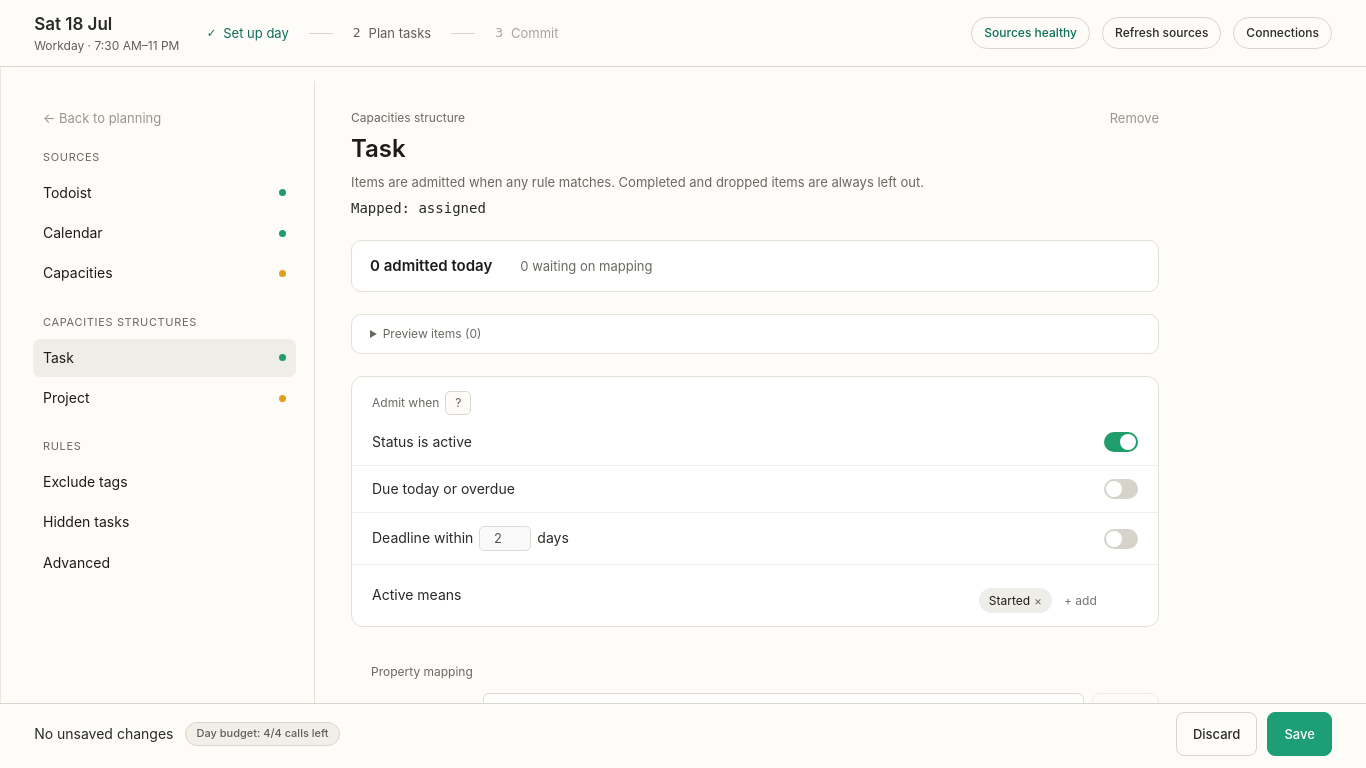
Connections screen (U13) › refuses an invalid rule, states why, and keeps Save disabled (R33)
Click the switch named "Deadline within": (1121, 538) [1104,528,1138,548]
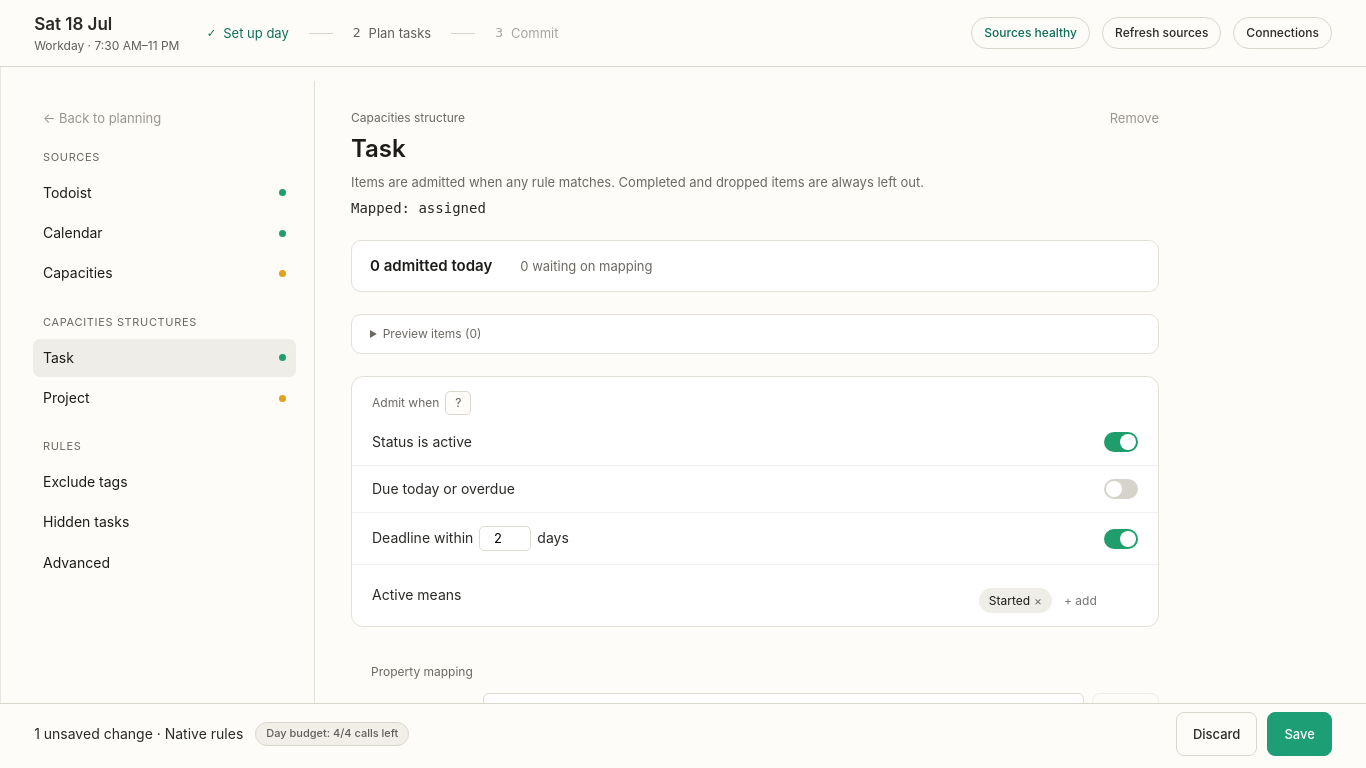
Clear the number field named "Deadline horizon": (505, 538) [479,526,531,551]
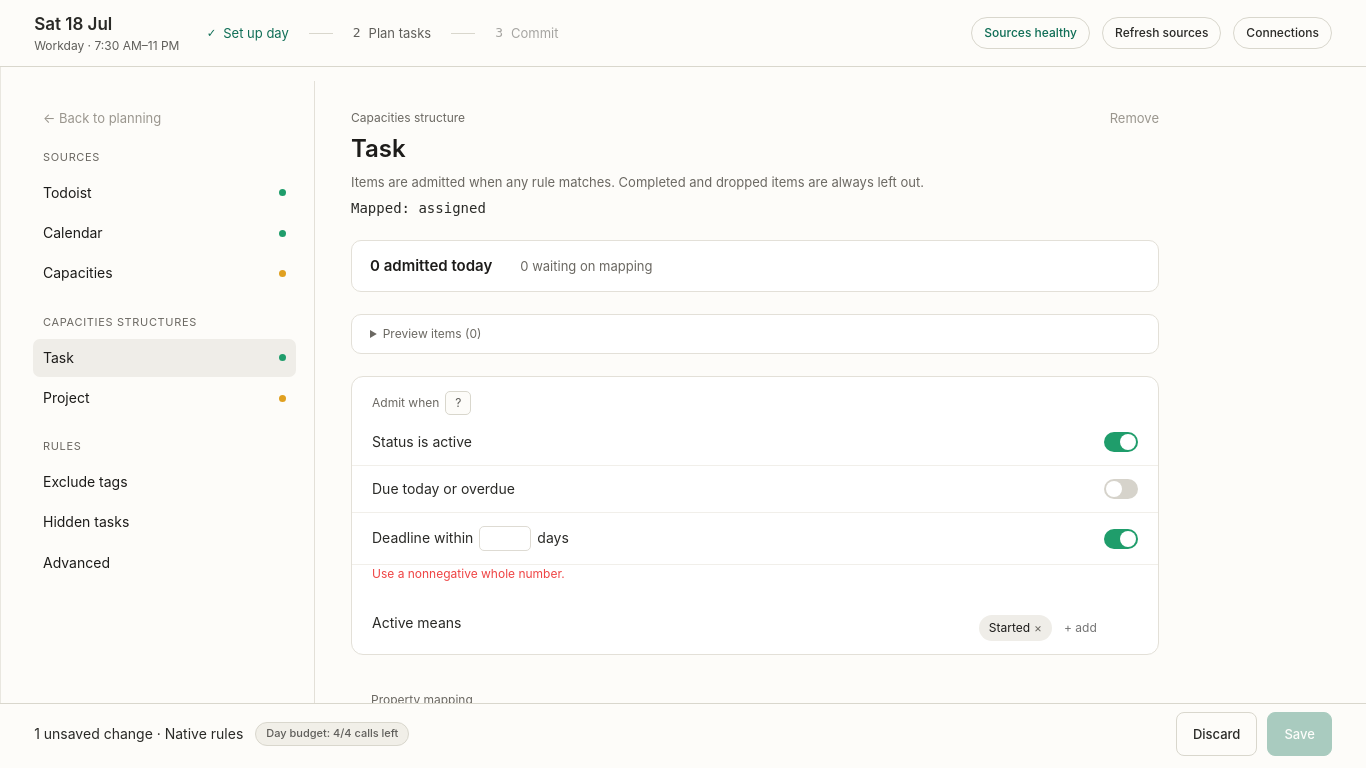
Check: the text "Use a nonnegative whole number." is shown, box [372,566,565,581]
Check: the button "Save" is disabled, box [1267,712,1332,756]
